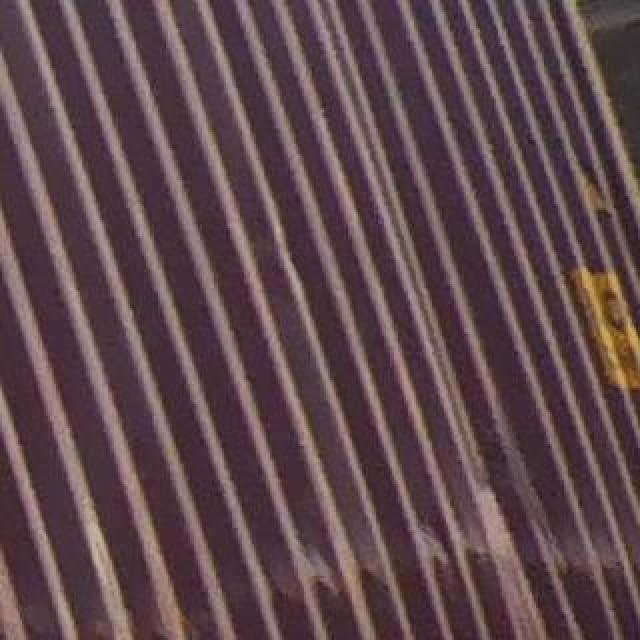dent: (373, 151, 587, 640)
